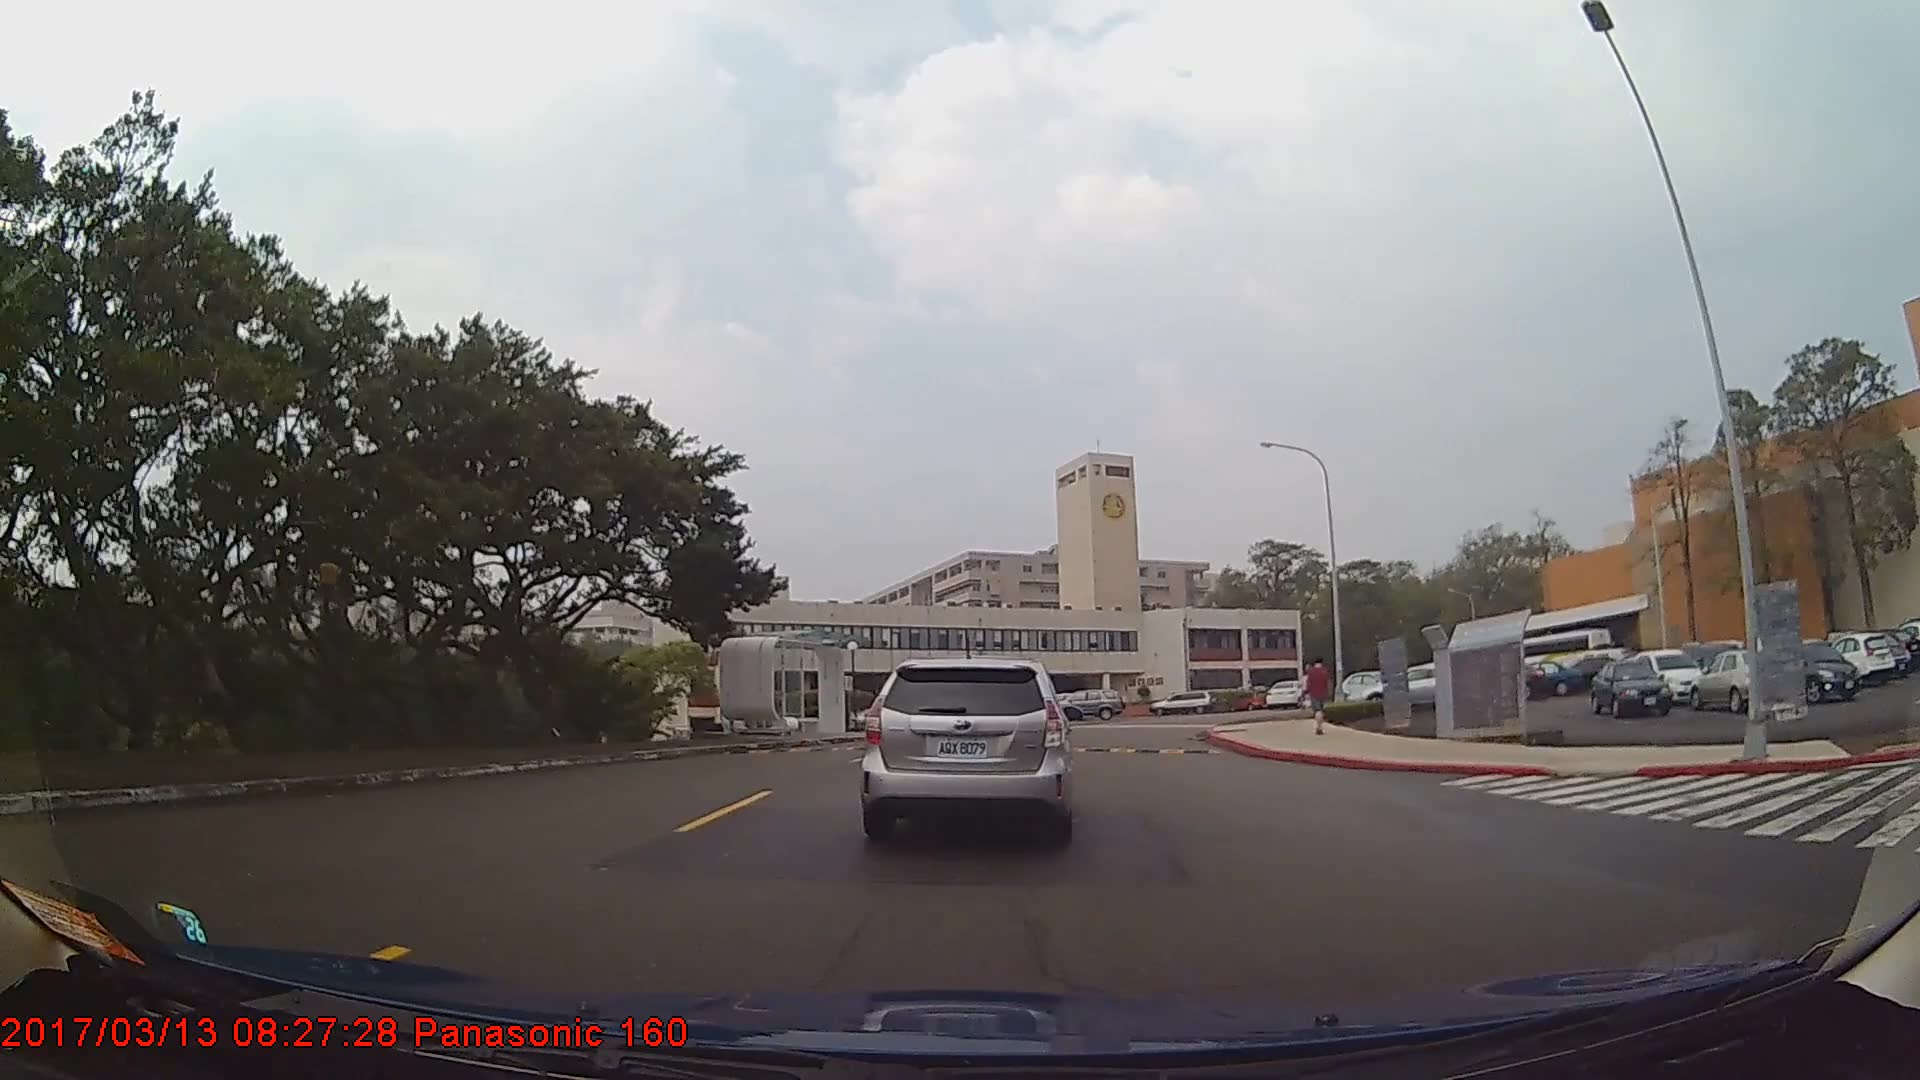pedestrian: (1306, 658, 1335, 740)
vehicle: (861, 650, 1071, 843), (1686, 650, 1774, 713), (1776, 640, 1857, 703), (1591, 659, 1670, 718), (1630, 648, 1705, 704), (1831, 631, 1893, 681), (1514, 660, 1581, 700), (1049, 687, 1126, 721), (1149, 689, 1216, 719), (1264, 676, 1306, 710)
